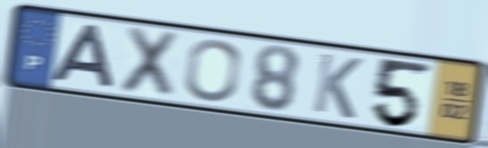5: (367, 54, 436, 129)
8: (250, 43, 302, 114)
A: (48, 22, 119, 92)
K: (309, 50, 365, 122)
O: (182, 37, 244, 104)
X: (115, 23, 184, 102)
